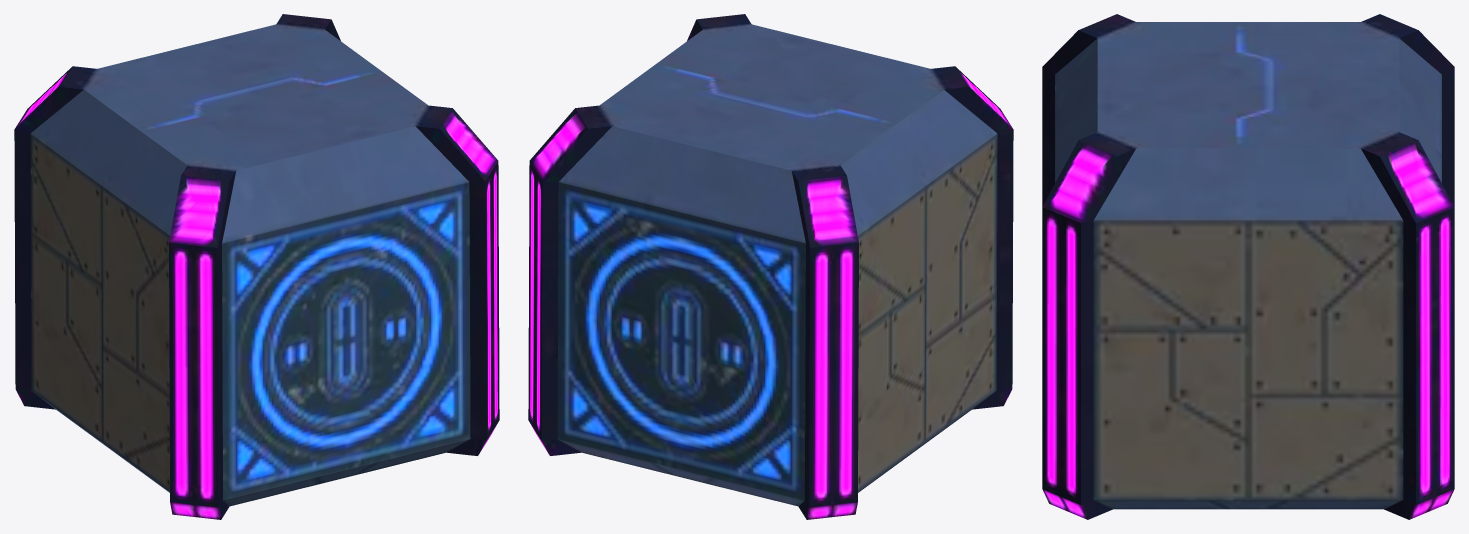
The model's file is caja_scifi.glb.
3 views of the same model, side by side, from view 1: azimuth 30°, elevation 25°; view 2: azimuth 150°, elevation 25°; view 3: azimuth 270°, elevation 25° (orthographic). The views are drawn at different scales.
Parts seen in each view (by area): view 1: LowPolyCrate; view 2: LowPolyCrate; view 3: LowPolyCrate.
Part boxes in pixels (<box>): LowPolyCrate: <box>14,14,499,519</box>; LowPolyCrate: <box>528,14,1013,519</box>; LowPolyCrate: <box>1042,14,1454,519</box>.
Bounding box in the file's own units: 0.6958 × 0.6534 × 0.6935.
1 material, 1 textured.
